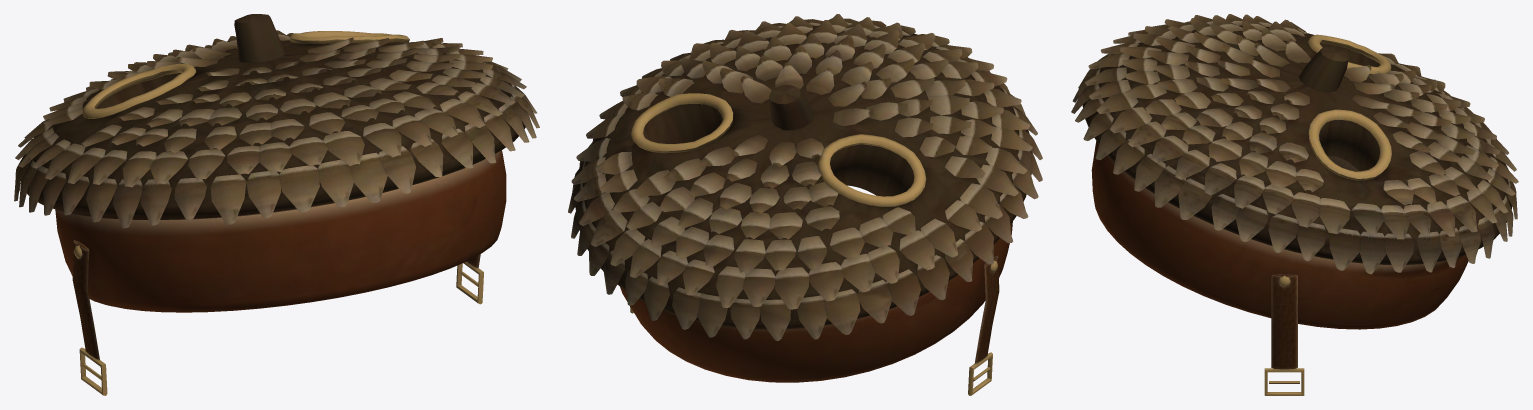
File: acorn_helmet.glb
The picture shows the model from 3 angles, left to right: view 1: azimuth 30°, elevation 25°; view 2: azimuth 150°, elevation 25°; view 3: azimuth 270°, elevation 25°; orthographic projection. The views are drawn at different scales.
Visible parts, largest first — view 1: acorn_helmet; view 2: acorn_helmet; view 3: acorn_helmet.
Part boxes in pixels (box(x1,y1,x2,y2)): acorn_helmet: box(14, 14, 539, 395); acorn_helmet: box(568, 14, 1042, 395); acorn_helmet: box(1071, 14, 1518, 395).
Size of the model in its own units: 0.3273 by 0.2081 by 0.3171.
1 material, 1 textured.
